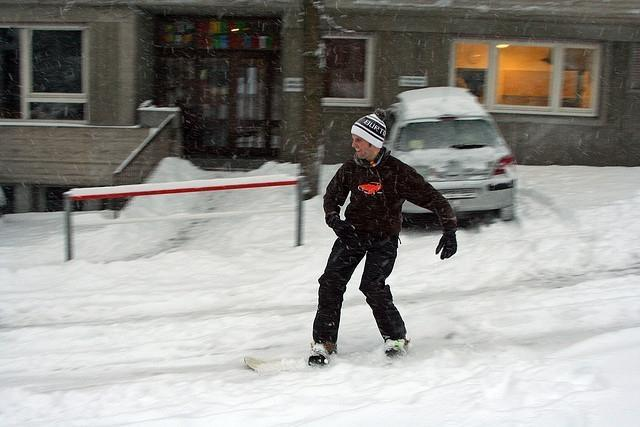car: (386, 85, 521, 218)
